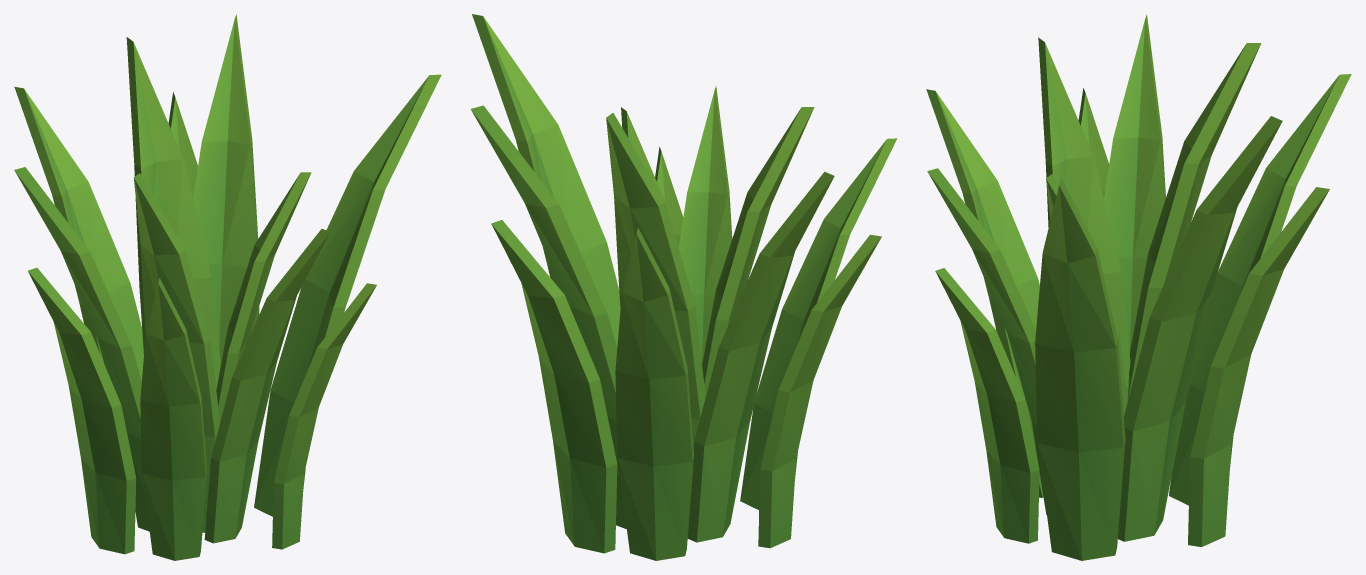
Rendered from kf_grass_2_c.fbx.
3 renders of one model, left to right at view 1: azimuth 30°, elevation 25°; view 2: azimuth 150°, elevation 25°; view 3: azimuth 270°, elevation 25°, orthographic. The views are drawn at different scales.
Parts seen in each view (by area): view 1: kf_grass_2_c_LOD0; view 2: kf_grass_2_c_LOD0; view 3: kf_grass_2_c_LOD0.
Part boxes in pixels (x1,y1,x2,y2): kf_grass_2_c_LOD0: [14, 14, 441, 560]; kf_grass_2_c_LOD0: [470, 14, 897, 560]; kf_grass_2_c_LOD0: [926, 14, 1351, 560].
Size of what is drawn, in the model's own units: 1.26 by 1.31 by 1.06.
1 material, 1 textured.
